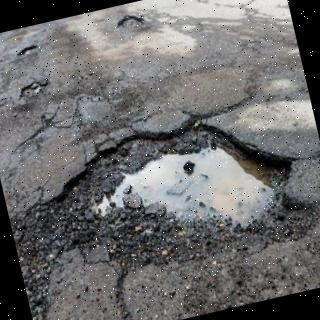pothole: (15, 123, 320, 320)
